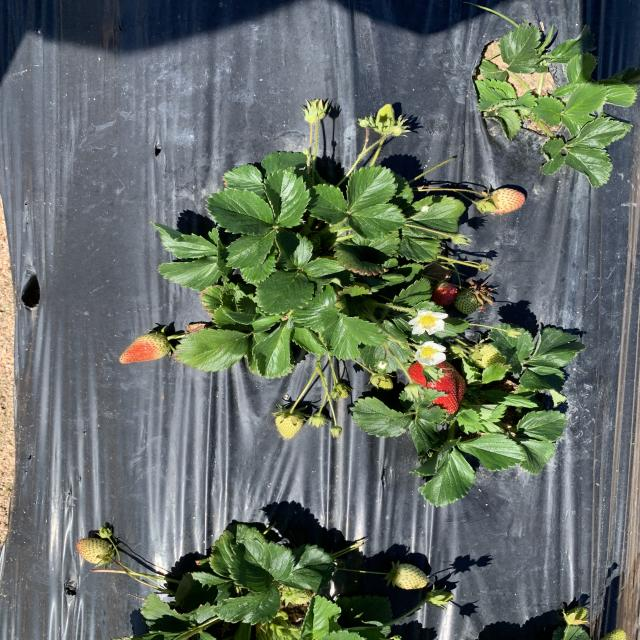unripe: (404, 351, 475, 418), (430, 281, 460, 306)
